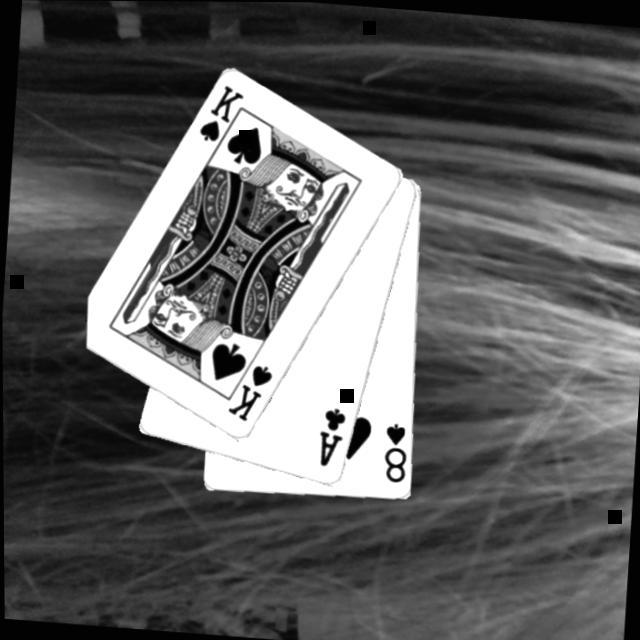8S: (382, 417, 412, 484)
AC: (316, 402, 350, 468)
KS: (195, 79, 250, 156), (225, 357, 278, 424)
